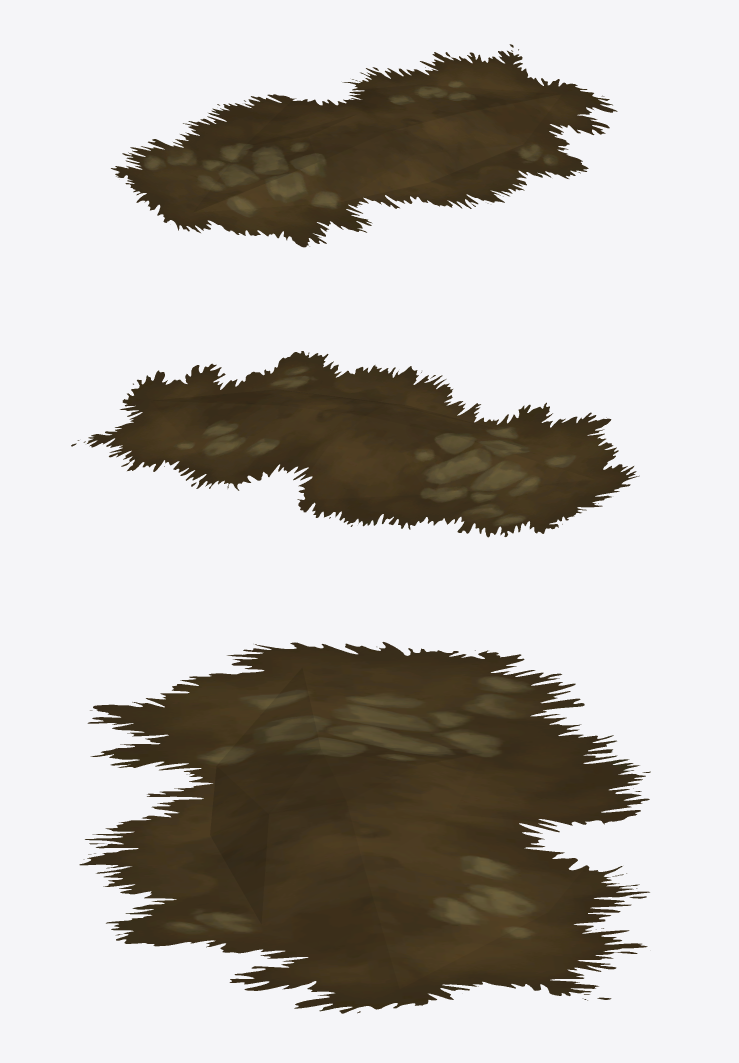
Rendered from rockydecal_01.fbx.
3 views of the same model, one above another, from view 1: azimuth 30°, elevation 25°; view 2: azimuth 150°, elevation 25°; view 3: azimuth 270°, elevation 25° (orthographic). The views are drawn at different scales.
Visible parts, largest first — view 1: obj0.003; view 2: obj0.003; view 3: obj0.003.
Boxes of the visible parts, x1,y1,x2,y2 form: obj0.003: [111, 44, 617, 247]; obj0.003: [71, 351, 639, 537]; obj0.003: [79, 642, 650, 1013].
Size of the model in its own units: 11.63 by 0.4097 by 7.87.
